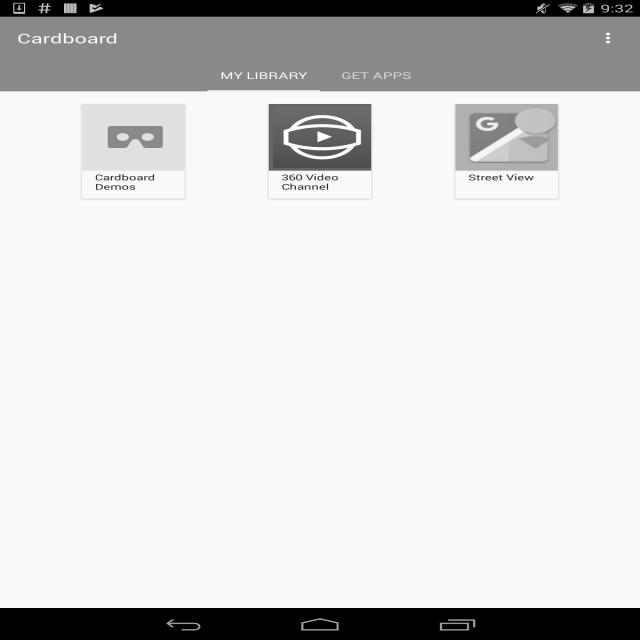ImageView: (82, 104, 189, 171), (269, 104, 375, 171), (456, 104, 562, 171), (589, 22, 631, 54)
TextView: (17, 29, 118, 47), (95, 172, 172, 192), (468, 172, 545, 192), (282, 172, 358, 192), (220, 69, 307, 82), (341, 69, 411, 82)
